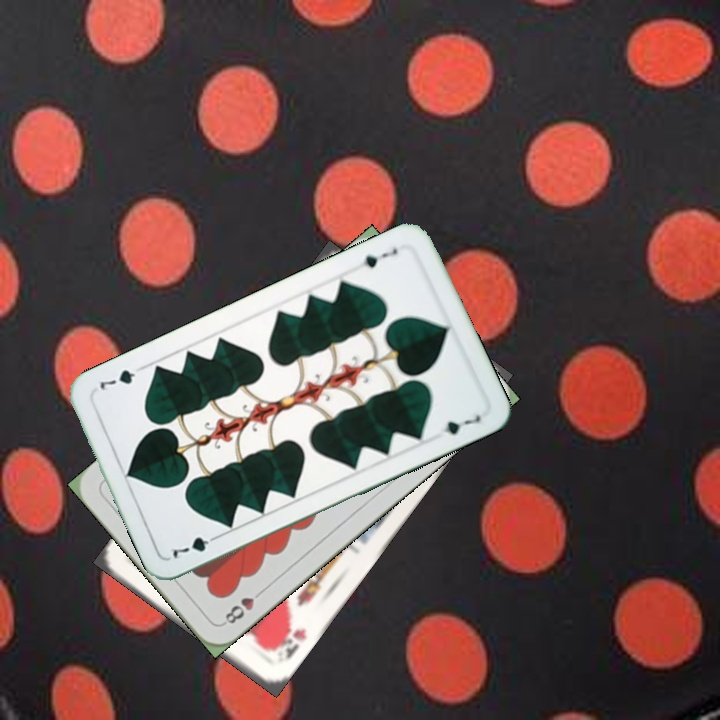G7: (168, 530, 223, 562), (359, 243, 400, 271)
H8: (218, 584, 267, 628)
HK: (268, 617, 309, 662)
